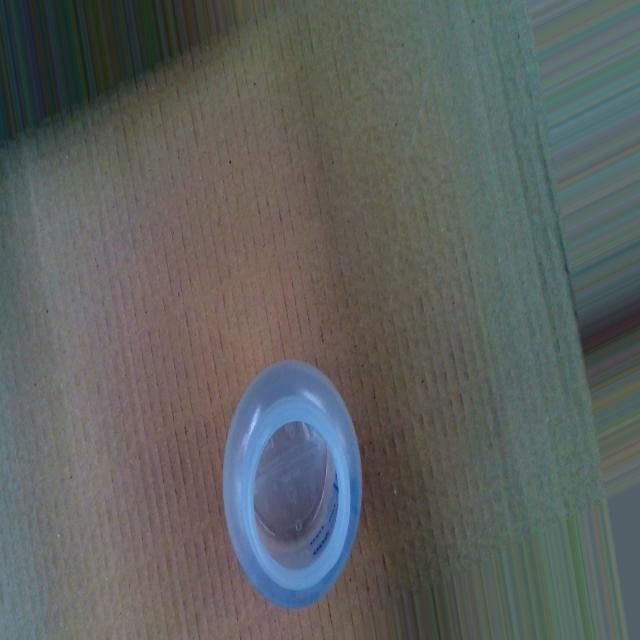bottle: (220, 358, 364, 612)
